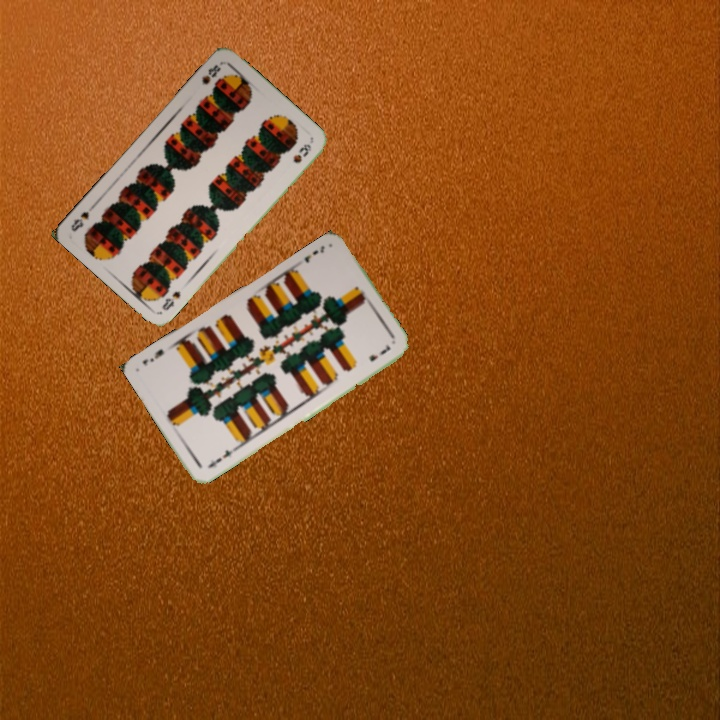E7: (204, 444, 238, 471), (300, 242, 327, 265)
S8: (197, 61, 223, 88), (158, 287, 183, 313)
